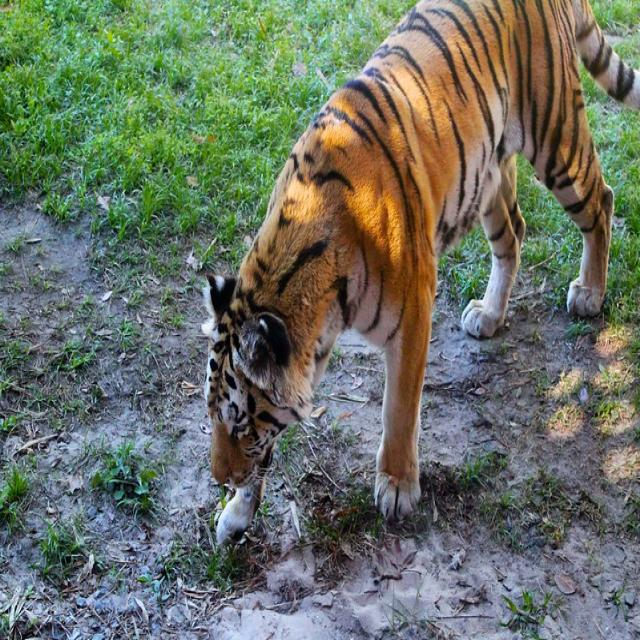Tiger: (196, 0, 639, 545)
